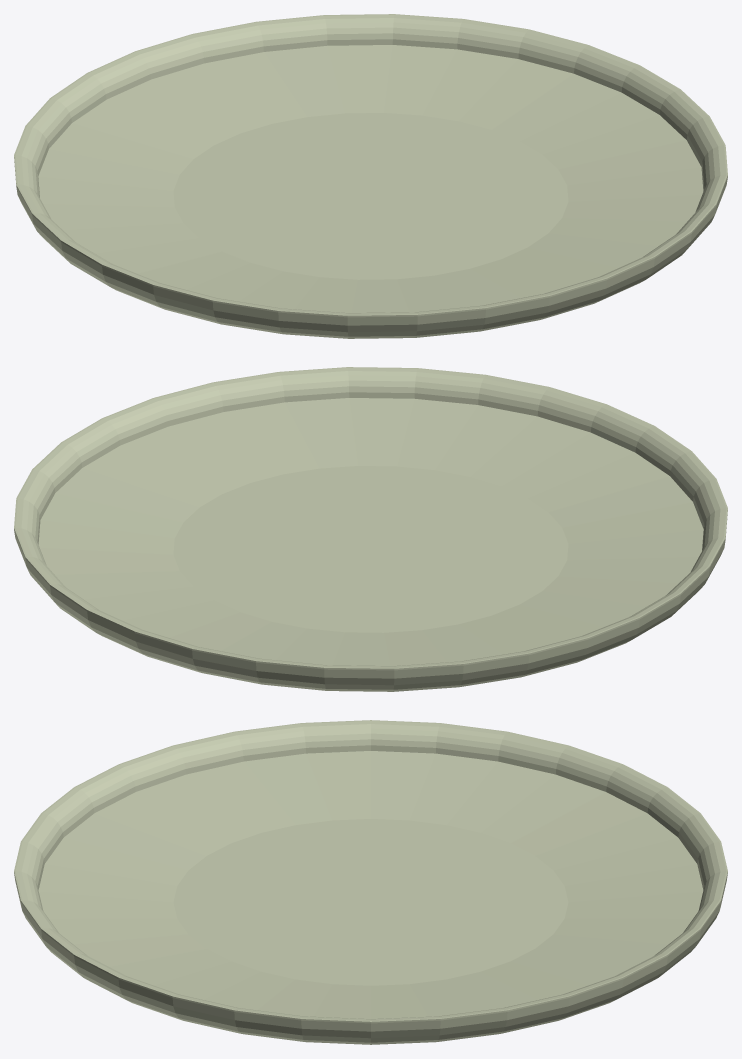
Rendered from Pires.fbx.
The picture shows the model from 3 angles, top to bottom: view 1: azimuth 30°, elevation 25°; view 2: azimuth 150°, elevation 25°; view 3: azimuth 270°, elevation 25°; orthographic projection.
Parts seen in each view (by area): view 1: Circle; view 2: Circle; view 3: Circle.
Part boxes in pixels (x1,y1,x2,y2): Circle: (14,14,727,338); Circle: (14,367,727,691); Circle: (14,720,727,1044).
Size of the model in its own units: 90.44 by 4.81 by 90.44.
